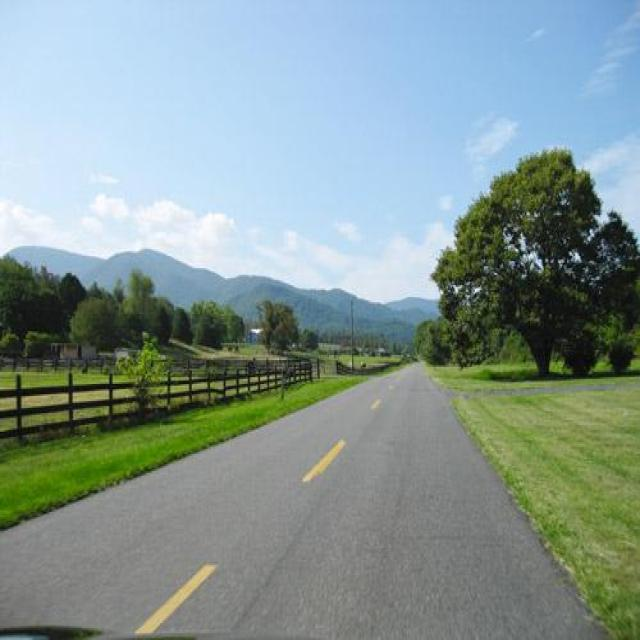cloud: (68, 167, 239, 249)
parterre: (454, 166, 640, 389)
